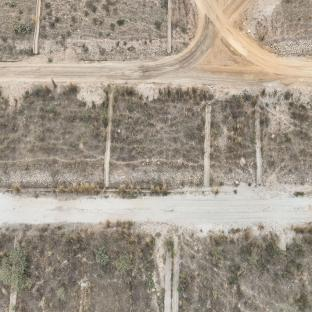rock_toe: (41, 40, 166, 59), (109, 164, 203, 186), (0, 166, 102, 186), (264, 165, 312, 186), (212, 165, 255, 187), (268, 38, 311, 59)
slope_drain: (103, 91, 115, 188), (8, 237, 23, 312), (202, 104, 211, 187), (255, 107, 263, 185), (32, 0, 41, 55), (167, 0, 173, 55)
toe_drain: (0, 186, 259, 195)
